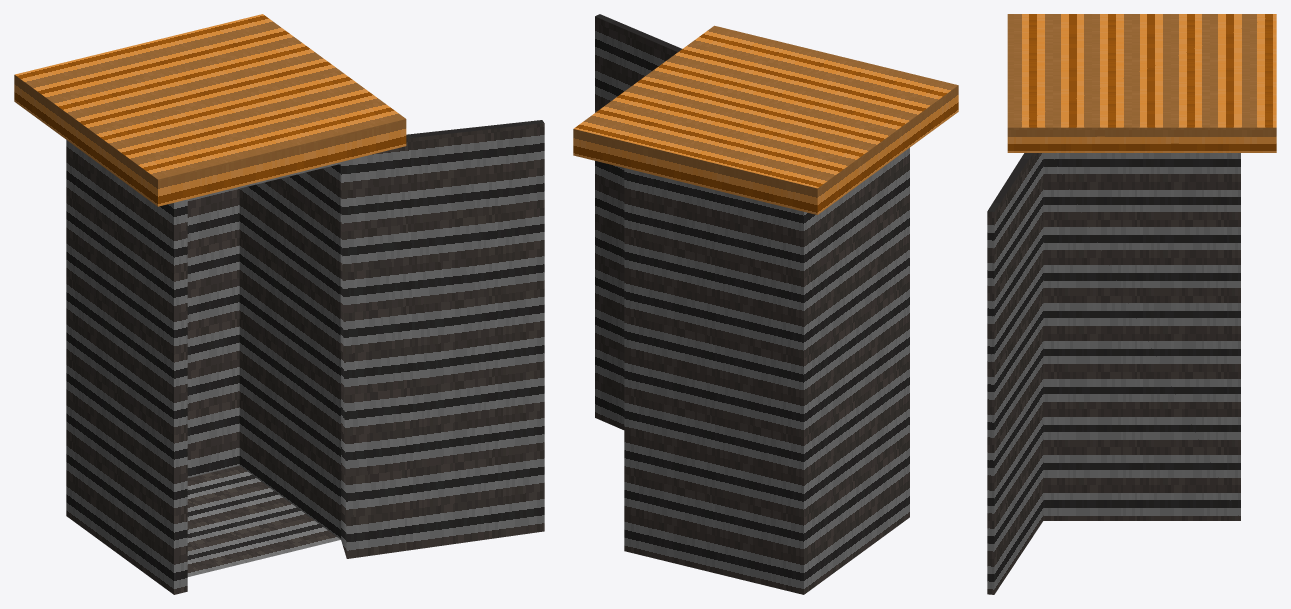
Rendered from BGN_ TOILET BOOTH.fbx.
3 renders of one model, left to right at view 1: azimuth 30°, elevation 25°; view 2: azimuth 150°, elevation 25°; view 3: azimuth 270°, elevation 25°, orthographic. The views are drawn at different scales.
Visible parts, largest first — view 1: BGN_ TOILET BOOTH; view 2: BGN_ TOILET BOOTH; view 3: BGN_ TOILET BOOTH.
Boxes of the visible parts, left/top/right/bottom form: BGN_ TOILET BOOTH: left=14, top=14, right=544, bottom=594; BGN_ TOILET BOOTH: left=573, top=14, right=958, bottom=594; BGN_ TOILET BOOTH: left=987, top=14, right=1276, bottom=594.
Size of the model in its own units: 227 by 250 by 161.
